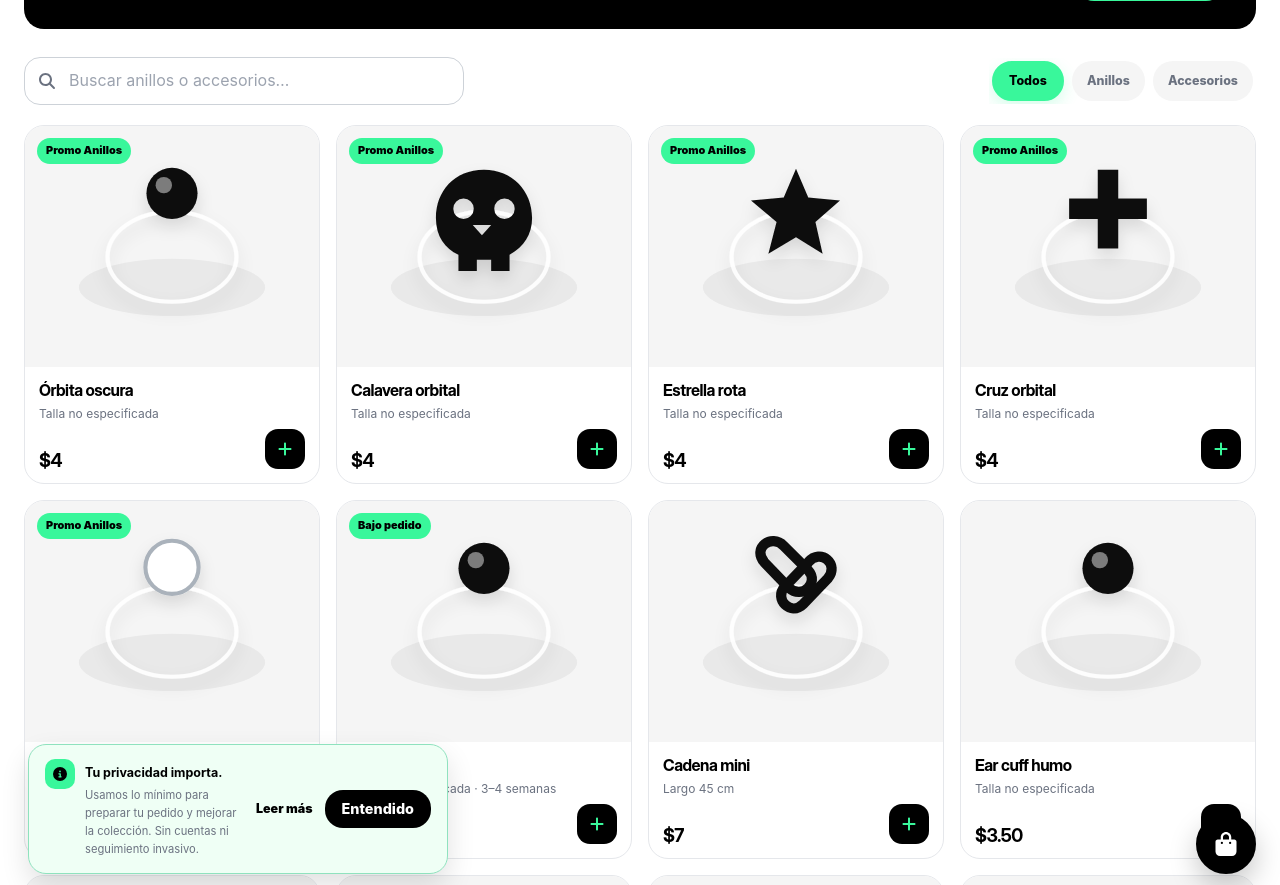
Test case: Store › requires a shipping method before opening WhatsApp
(page scrolled)
Click the button named "agregar órbita oscura" at (285, 449), box [265,429,305,469]
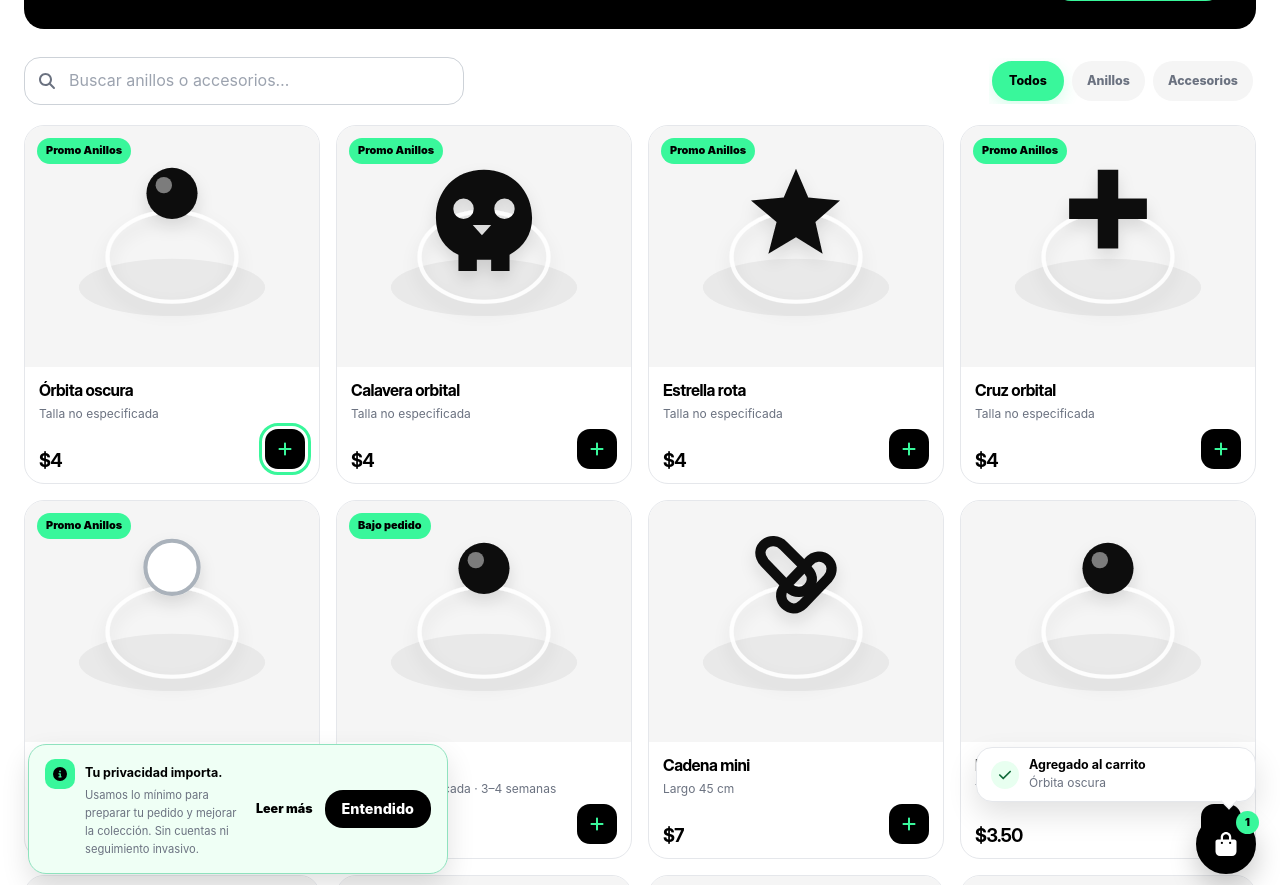
Click the button named "Abrir carrito" at (1226, 844), box [1196,814,1256,874]
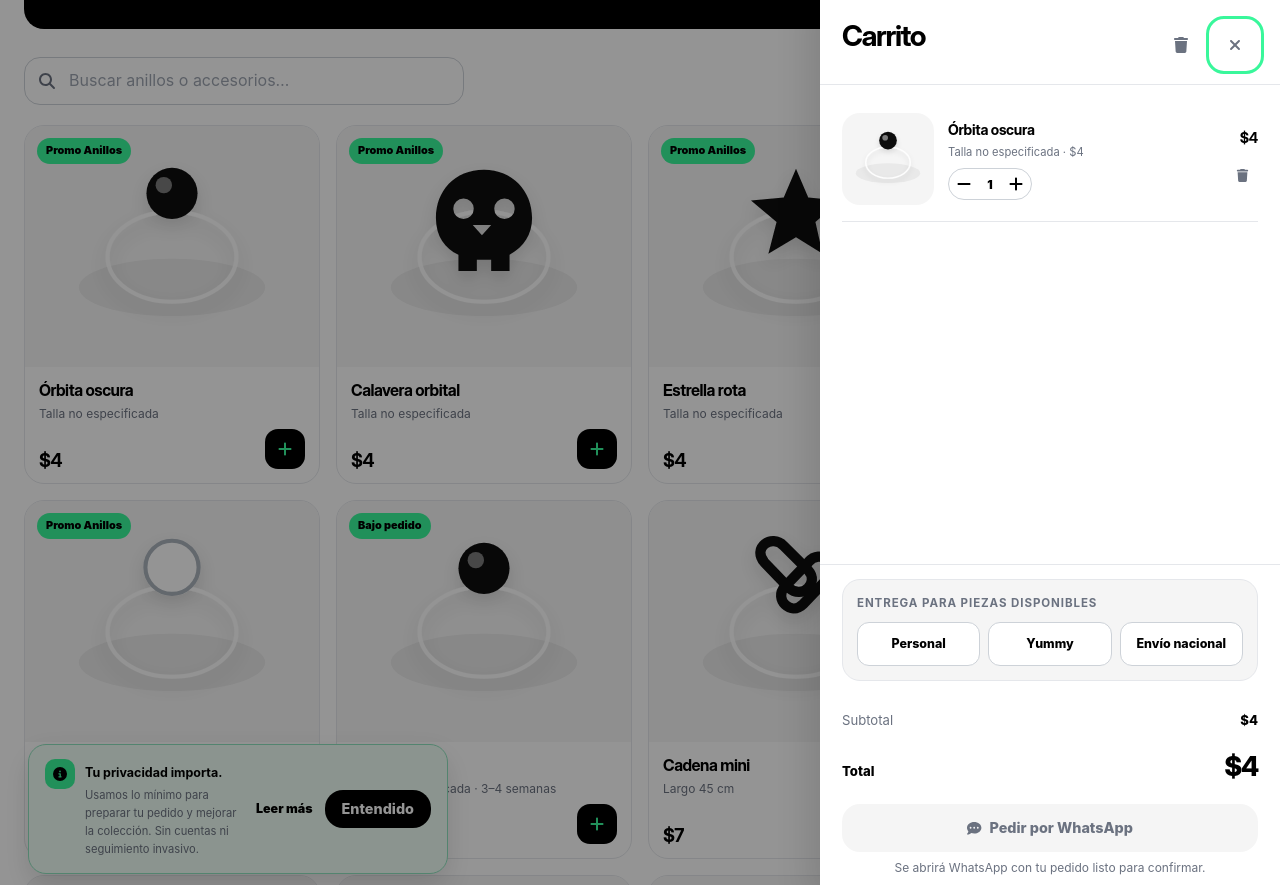
expect the text "Se abrirá WhatsApp con tu pedido listo para confirmar." is shown: met, box [894,860,1205,875]
Click the button "Pedir por WhatsApp" at (1050, 828), box [842,804,1258,852]
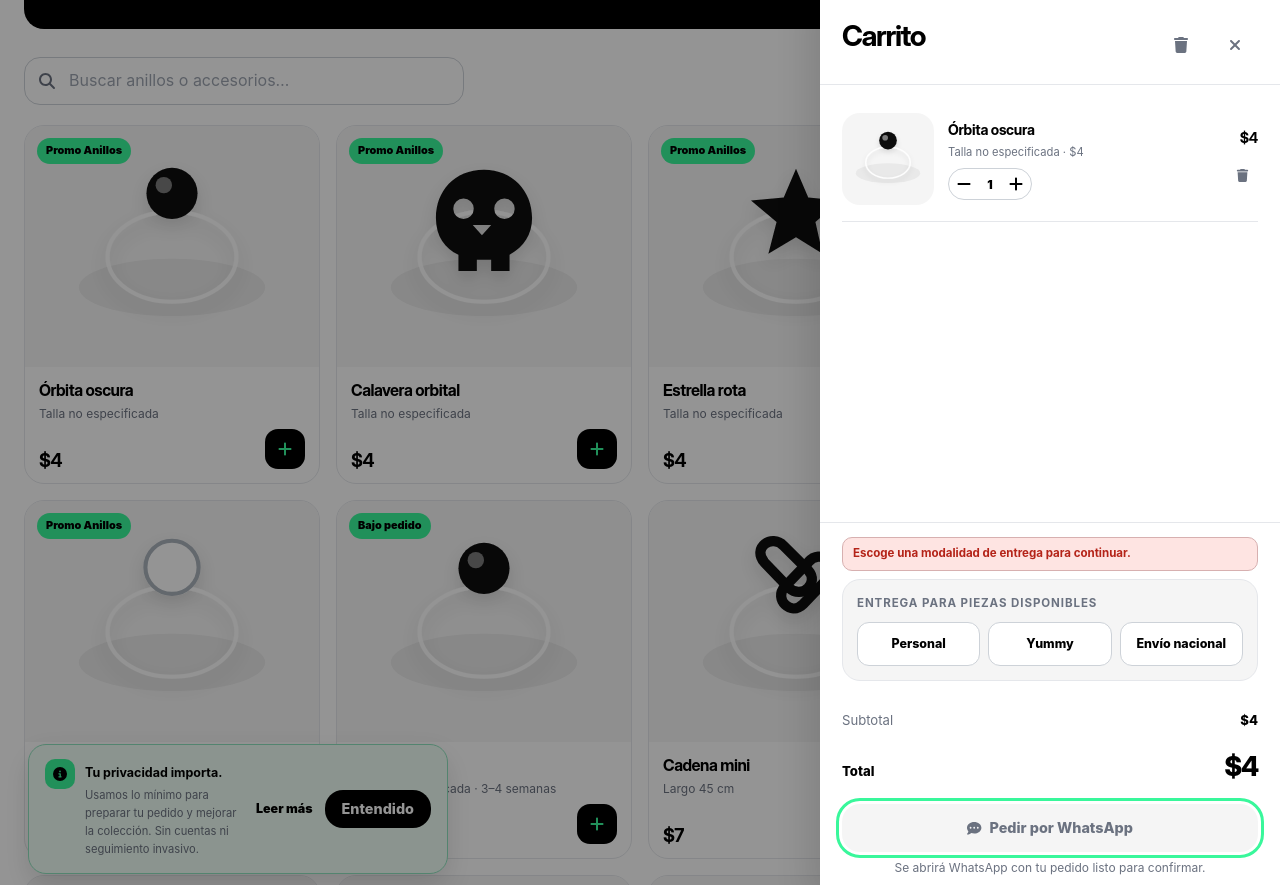
expect the message reads "Escoge una modalidad de entrega para continuar.": met, box [853,546,1131,560]
